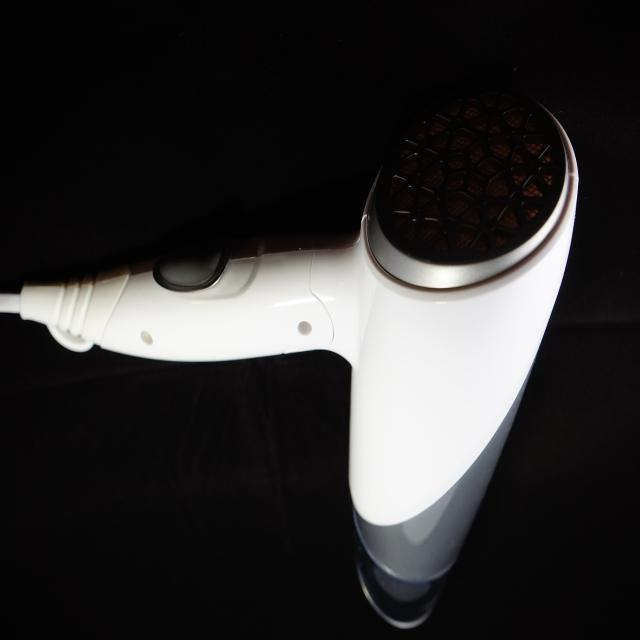dryer: (19, 89, 579, 634)
